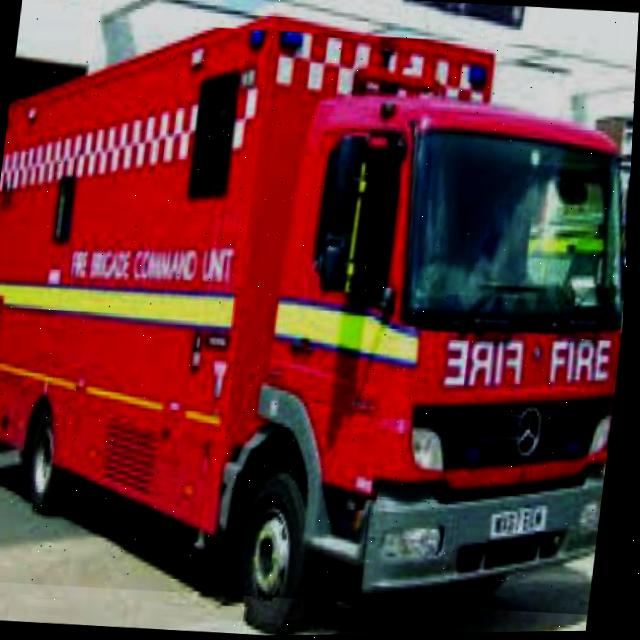Fire Truck: (0, 9, 639, 623)
